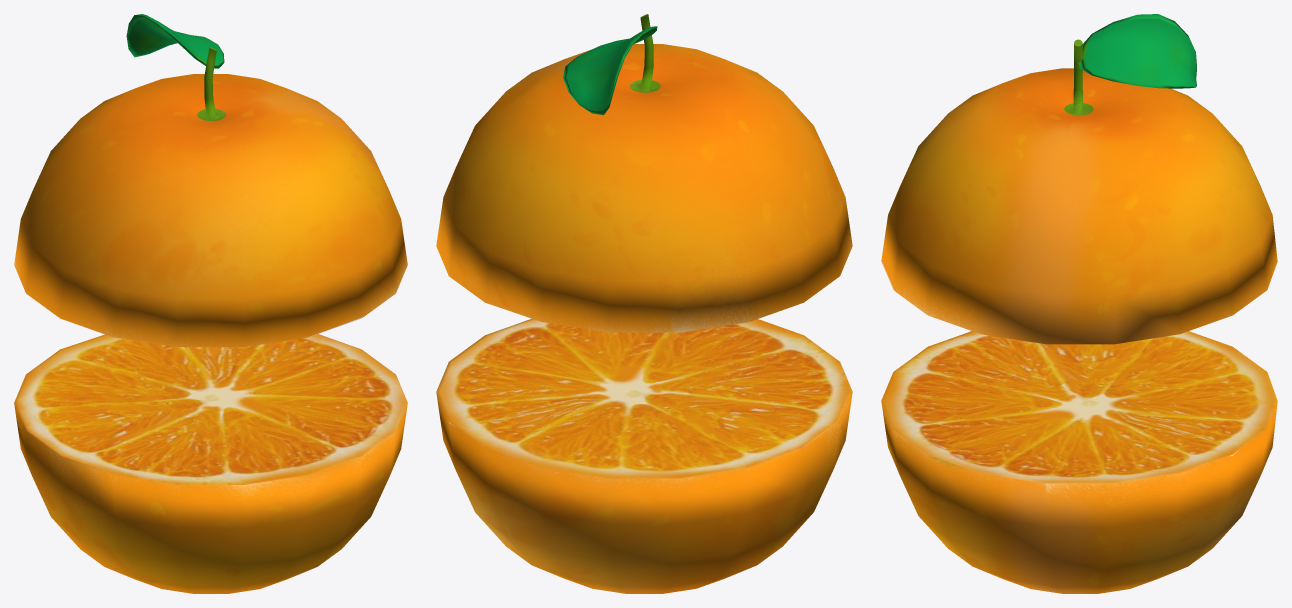
File: OrengeCut.fbx
The picture shows the model from 3 angles, left to right: view 1: azimuth 30°, elevation 25°; view 2: azimuth 150°, elevation 25°; view 3: azimuth 270°, elevation 25°; orthographic projection. The views are drawn at different scales.
Parts seen in each view (by area): view 1: orangeCutTop, orangeCutBottom; view 2: orangeCutTop, orangeCutBottom; view 3: orangeCutTop, orangeCutBottom.
Boxes of the visible parts, bbox=[...] form: orangeCutTop: bbox=[14, 14, 407, 346]; orangeCutBottom: bbox=[14, 334, 407, 593]; orangeCutTop: bbox=[436, 14, 852, 332]; orangeCutBottom: bbox=[436, 318, 852, 593]; orangeCutTop: bbox=[881, 14, 1277, 344]; orangeCutBottom: bbox=[881, 331, 1277, 593].
Bounding box in the file's own units: 197 × 295 × 199.
